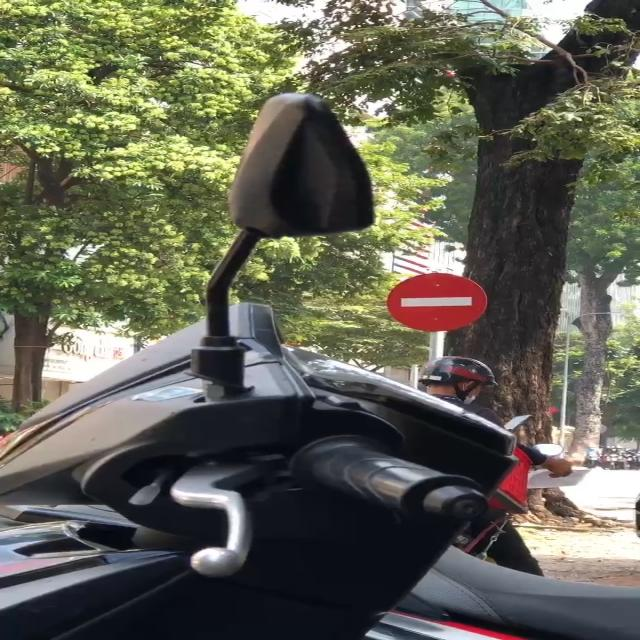Bien bao cam di nguoc chieu: (385, 264, 490, 332)
